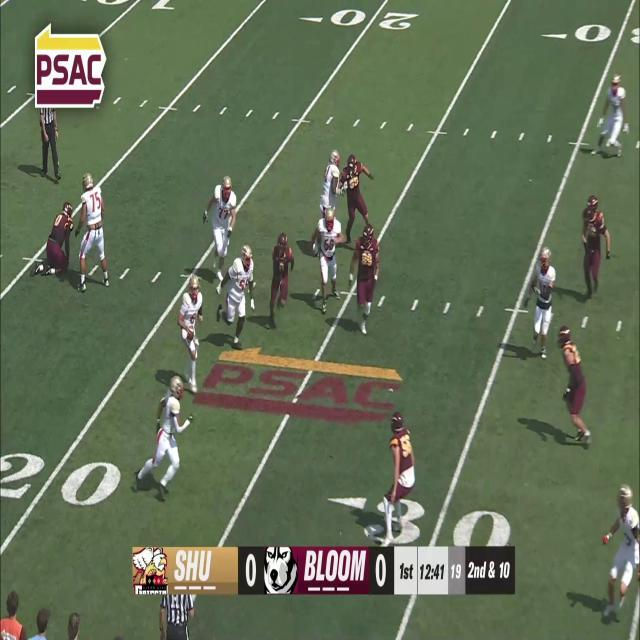football: (186, 322, 195, 344)
